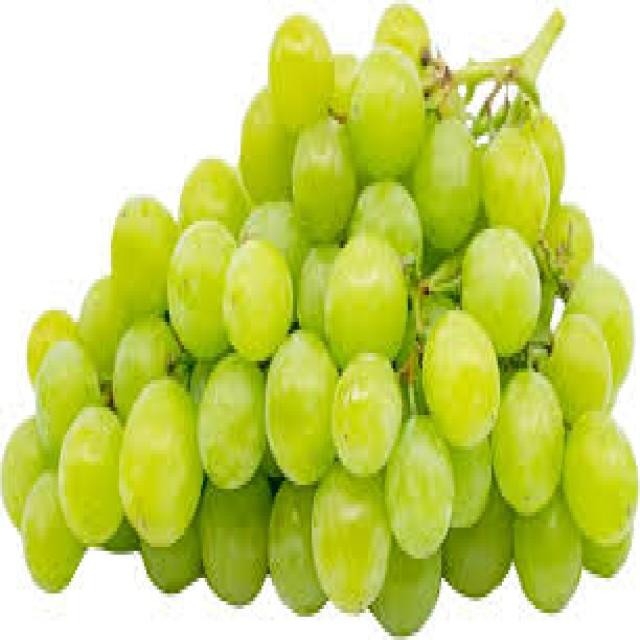Grapes: (209, 487, 318, 611), (382, 409, 466, 567), (418, 302, 498, 455), (342, 50, 434, 182), (7, 440, 79, 604), (311, 482, 397, 617), (125, 389, 198, 545), (502, 374, 574, 531), (267, 350, 341, 494), (330, 246, 417, 367), (292, 119, 360, 269), (411, 129, 491, 254), (508, 499, 596, 612), (563, 238, 635, 376), (477, 127, 559, 247), (468, 230, 541, 363), (197, 352, 267, 487), (570, 411, 640, 545), (169, 230, 235, 371), (220, 148, 303, 258), (334, 352, 402, 477), (223, 247, 293, 368), (103, 209, 184, 311), (269, 26, 336, 149), (242, 100, 307, 222), (66, 404, 124, 540), (41, 352, 109, 454), (558, 320, 613, 417)
